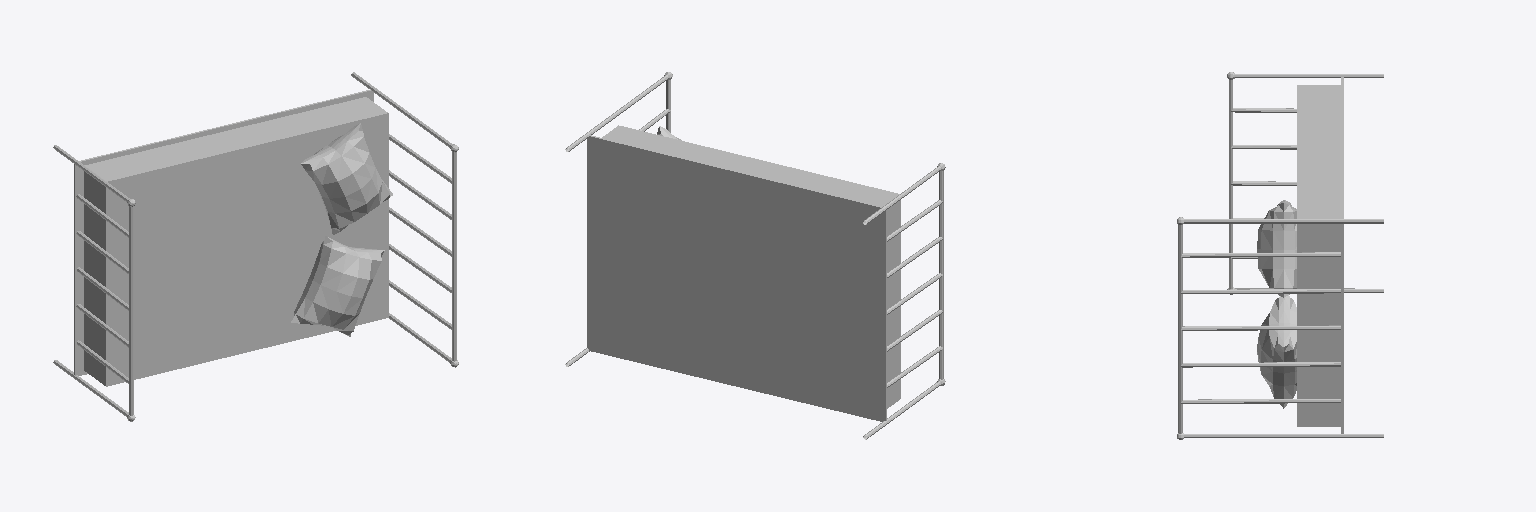
The model's file is f_Bed.obj.
3 views of the same model, side by side, from view 1: azimuth 30°, elevation 25°; view 2: azimuth 150°, elevation 25°; view 3: azimuth 270°, elevation 25° (orthographic).
Visible parts, largest first — view 1: Bed; view 2: Bed; view 3: Bed.
Part boxes in pixels (x1,y1,x2,y2): Bed: (53, 72, 458, 421); Bed: (565, 72, 945, 439); Bed: (1177, 72, 1383, 439).
Size of the model in its own units: 8.74 by 6.09 by 5.13.